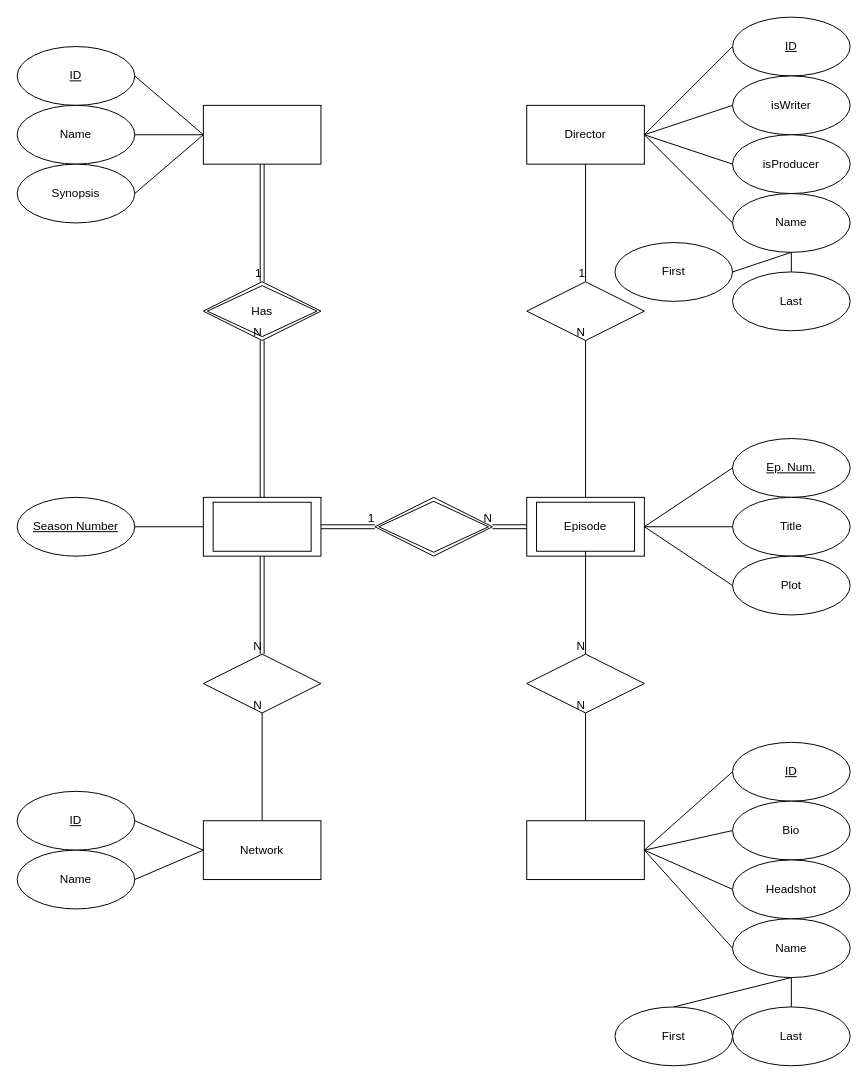
Image size: 867x1083. Some labels were removed from this diagram. Here are the shapes that lost their labels. From the top down, the box of each, then its label:
(202, 104, 321, 164): TV Show
(526, 281, 644, 341): Directs
(212, 501, 311, 551): Season
(374, 496, 492, 556): Contains
(202, 653, 321, 713): Airs
(526, 653, 644, 713): Appears In
(526, 820, 644, 880): Actor
